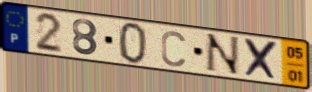0: (117, 21, 149, 66)
2: (33, 12, 64, 56)
8: (71, 18, 100, 57)
C: (160, 29, 188, 68)
N: (203, 32, 242, 78)
X: (243, 37, 280, 83)
